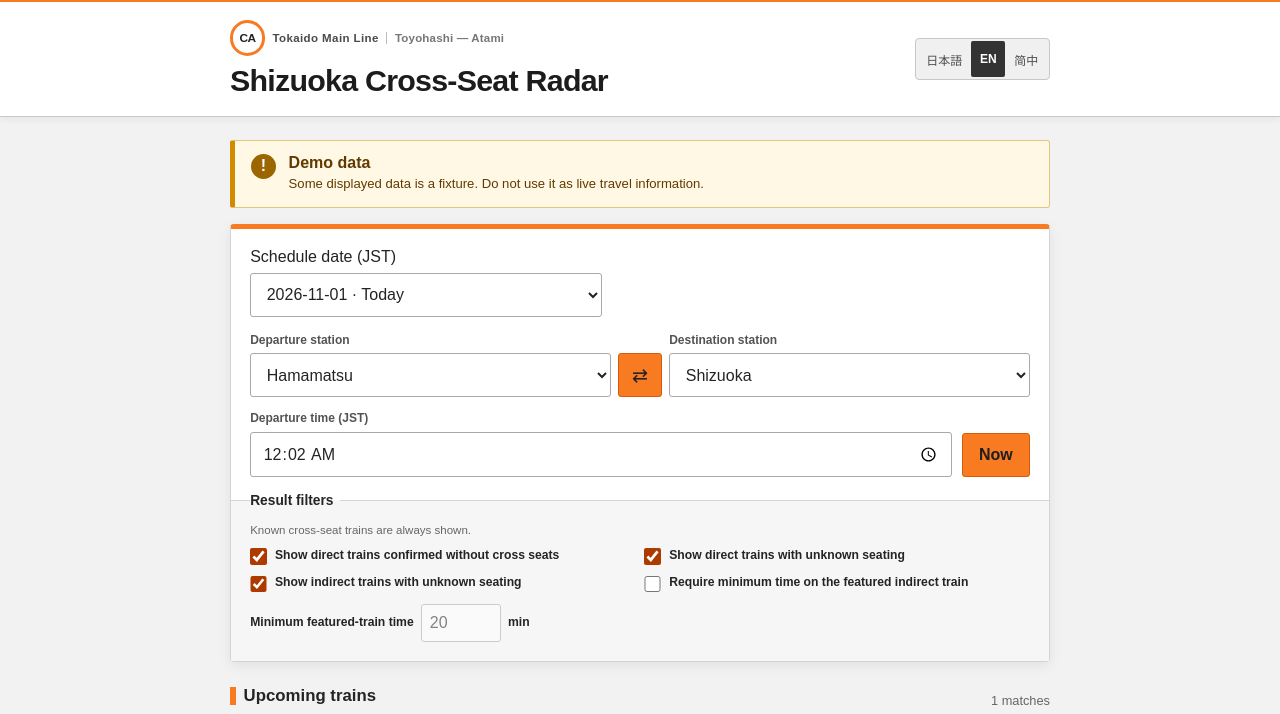
Test: App › shows the fastest complete scheduled route for an intermediate overlap
This screenshot has width=1280, height=714.
Replace the text in the time field labelled "Departure time (JST)" with "00:00". click: coordinates (601, 455)
box: [250,432,952,478]
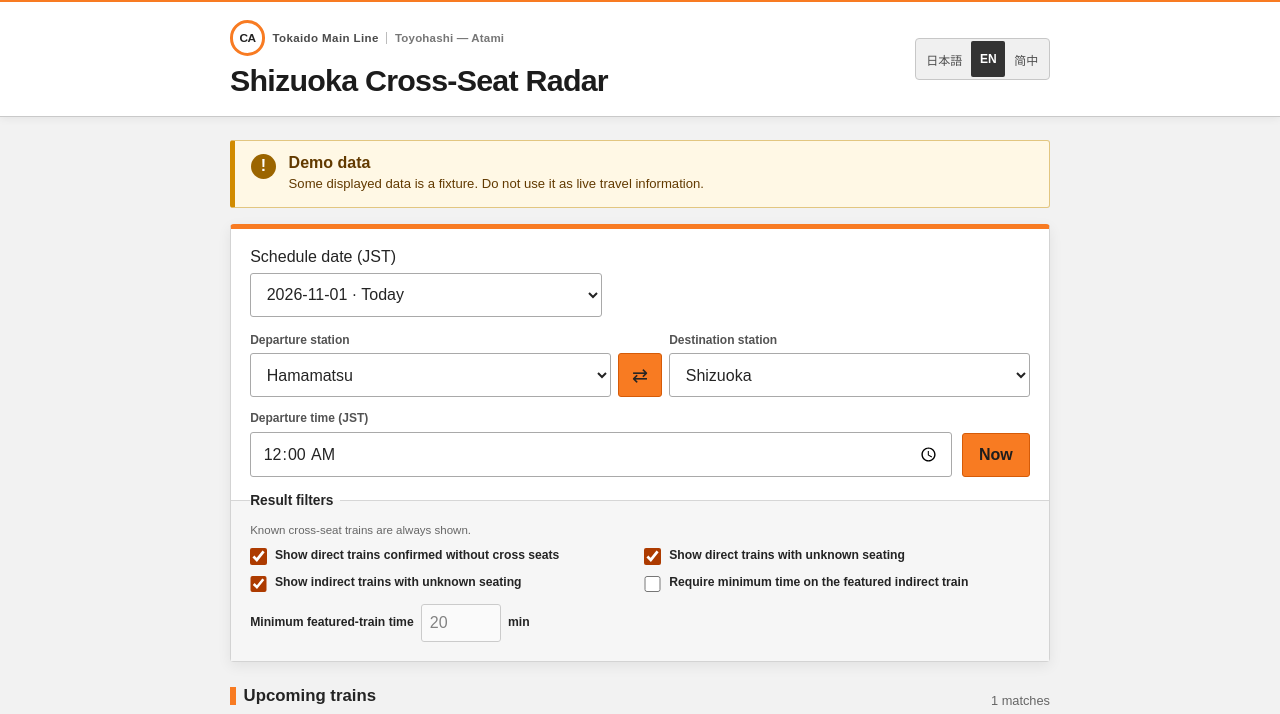
Expected: the number field labelled "Minimum featured-train time min" is disabled, [421,604,501,642]
Click the checkbox labelled "Require minimum time on the featured indirect train". click: coordinates (653, 584)
box: [644,576,661,592]
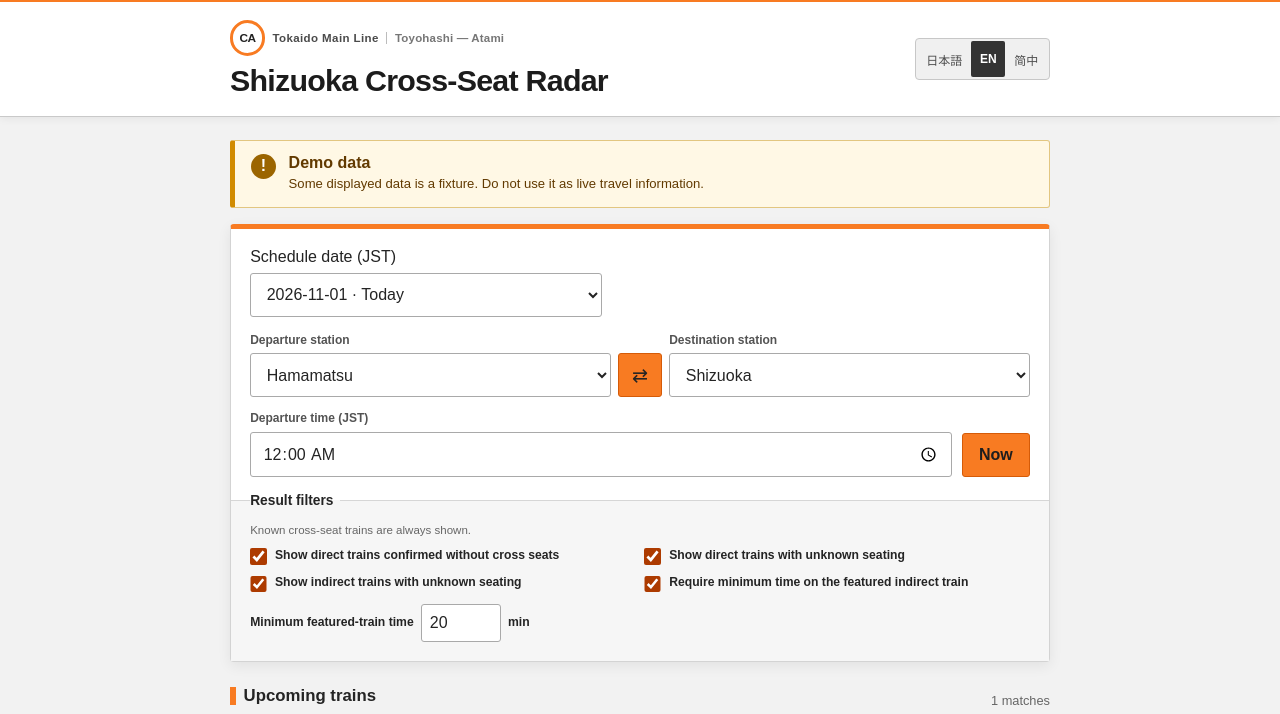
Expected: the number field labelled "Minimum featured-train time min" is enabled
Replace the text in the number field labelled "Minimum featured-train time min" with "50". click: coordinates (461, 623)
box: [421,604,501,642]
(page scrolled)
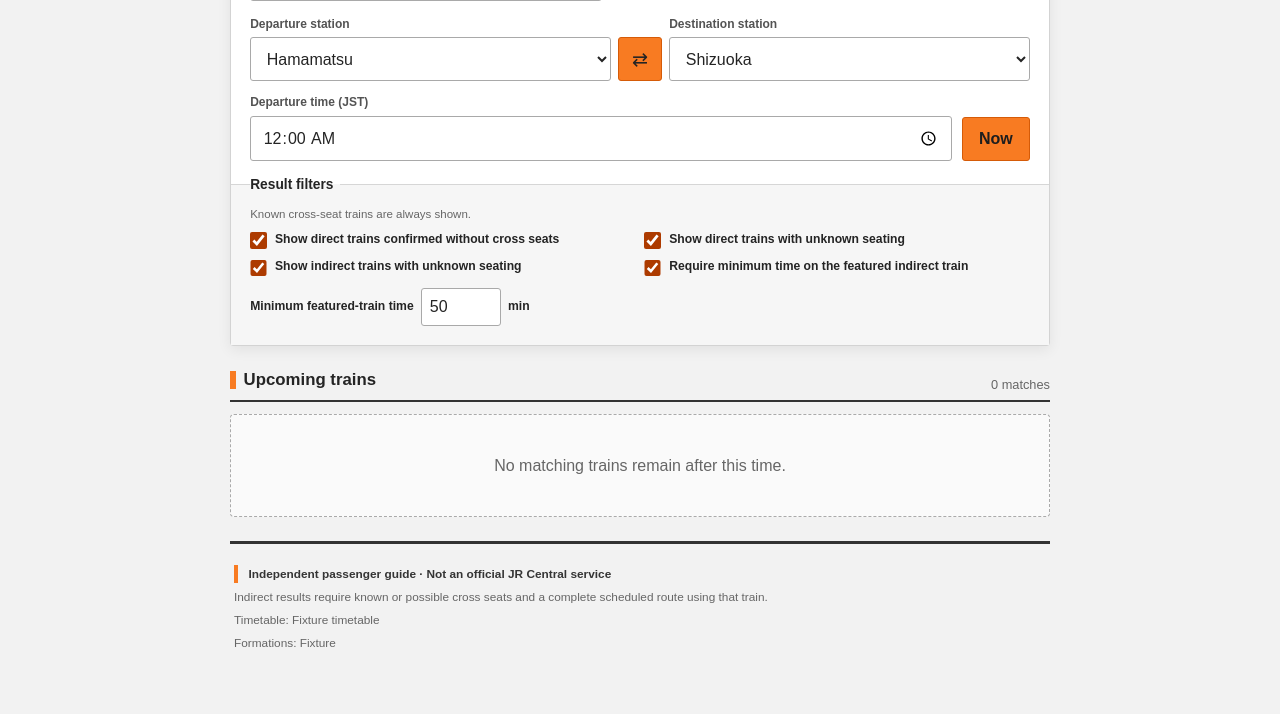
Expected: the text "No matching trains remain after this time." is shown, [230,414,1050,517]
